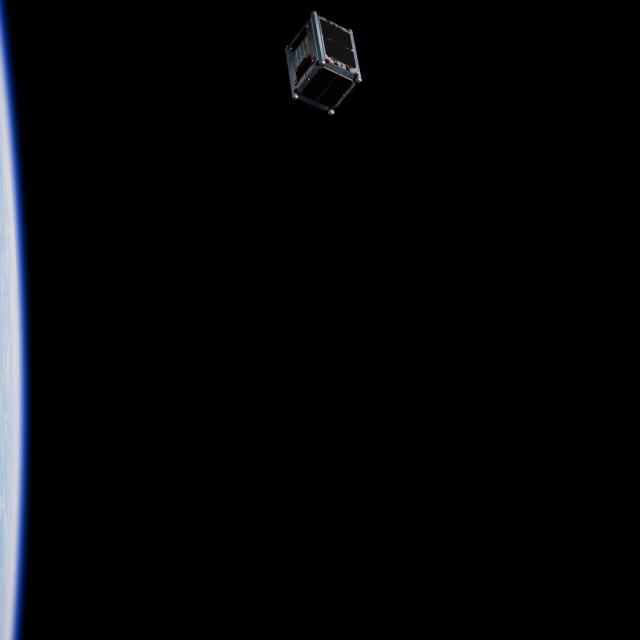medium_debris: (281, 11, 366, 120)
